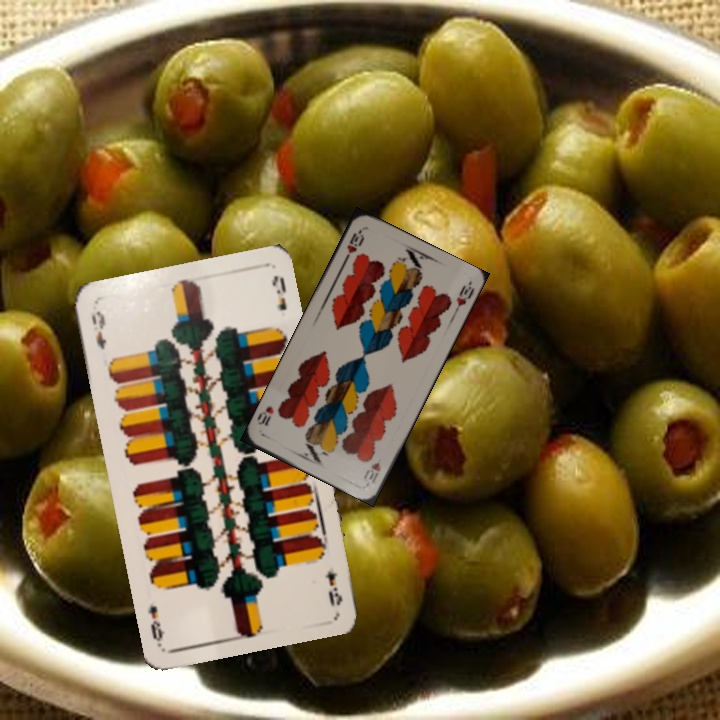E9: (87, 307, 109, 352), (322, 567, 345, 609)
H10: (340, 226, 367, 264), (360, 458, 383, 486)
